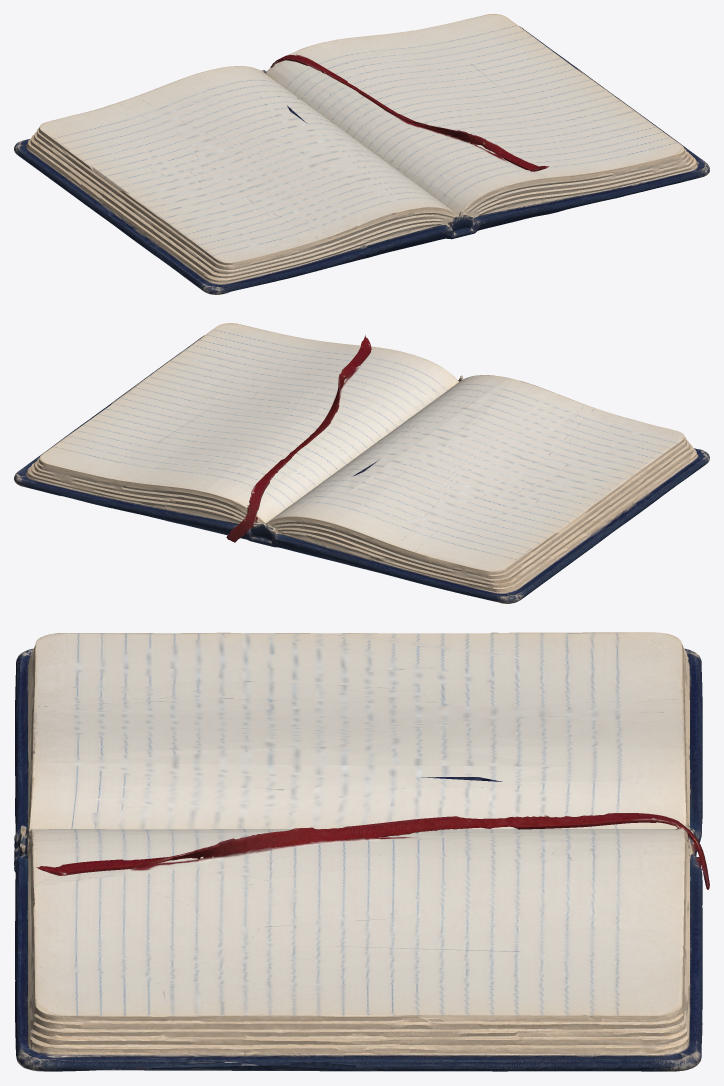
Rendered from remeshed-notebook.glb.
3 renders of one model, top to bottom at view 1: azimuth 30°, elevation 25°; view 2: azimuth 150°, elevation 25°; view 3: azimuth 270°, elevation 25°, orthographic. The views are drawn at different scales.
Parts seen in each view (by area): view 1: output_unwrapped; view 2: output_unwrapped; view 3: output_unwrapped.
Boxes of the visible parts, x1,y1,x2,y2 form: output_unwrapped: (14,14,709,294); output_unwrapped: (14,323,709,603); output_unwrapped: (14,632,709,1071).
Size of the model in its own units: 1.9 by 0.1636 by 1.34.
1 material, 1 textured.
